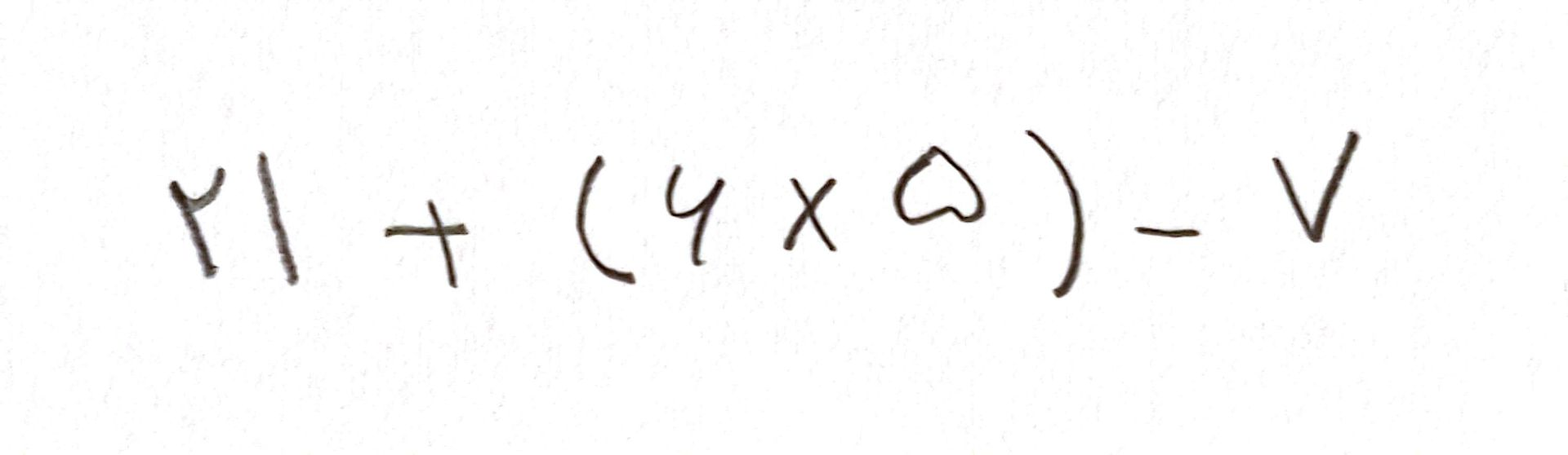character: (1272, 129, 1365, 246), (1024, 129, 1085, 295), (576, 155, 638, 286), (382, 202, 469, 288), (894, 145, 987, 225), (169, 166, 226, 279), (665, 162, 726, 264), (254, 151, 298, 285), (784, 176, 835, 253), (1136, 225, 1197, 237)
